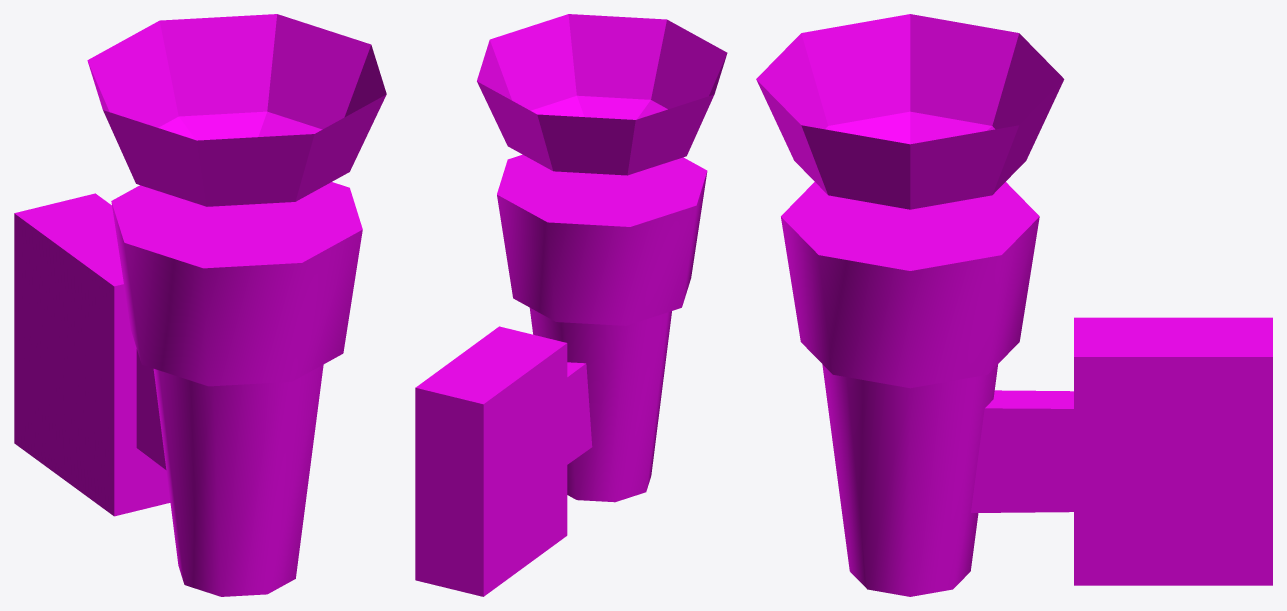
3 renders of one model, left to right at view 1: azimuth 30°, elevation 25°; view 2: azimuth 150°, elevation 25°; view 3: azimuth 270°, elevation 25°, orthographic. The views are drawn at different scales.
Parts seen in each view (by area): view 1: lamp_j_01; view 2: lamp_j_01; view 3: lamp_j_01.
Boxes of the visible parts, x1=… form: lamp_j_01: x1=14, y1=14, x2=386, y2=596; lamp_j_01: x1=415, y1=14, x2=727, y2=596; lamp_j_01: x1=756, y1=14, x2=1272, y2=596.
Size of the model in its own units: 0.00983 by 0.0173 by 0.0165.
